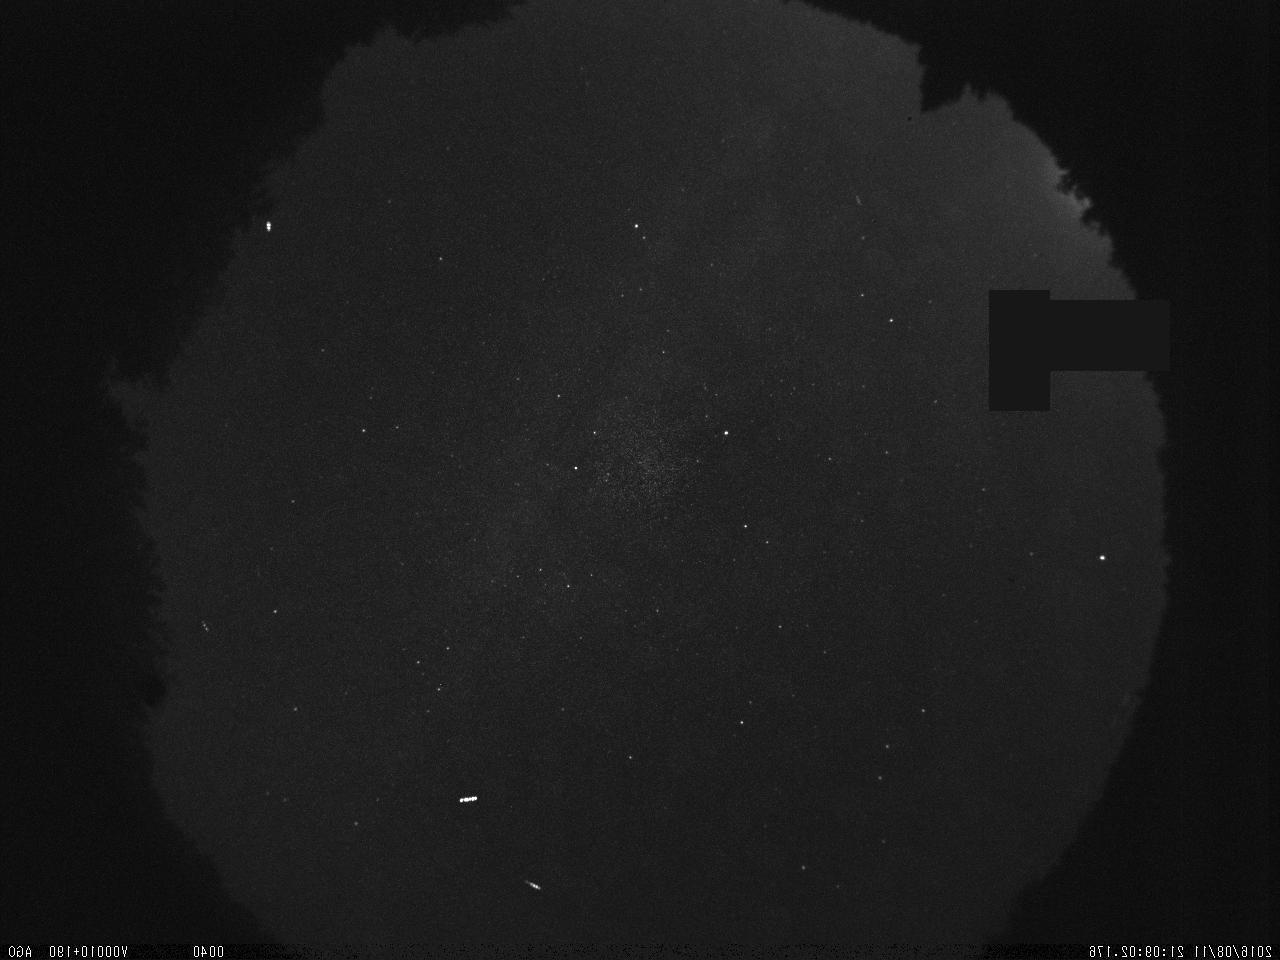meteor: (518, 872, 545, 897)
satelite: (452, 786, 486, 811)
